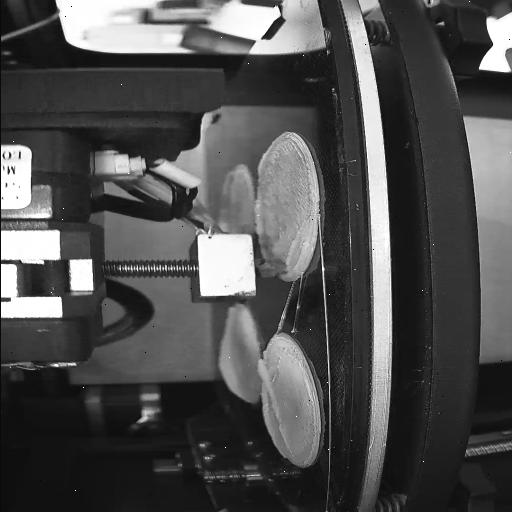over_extrusion: (210, 307, 250, 403), (254, 360, 287, 450), (216, 166, 233, 232), (250, 196, 268, 240), (284, 227, 302, 263), (254, 148, 272, 178)
